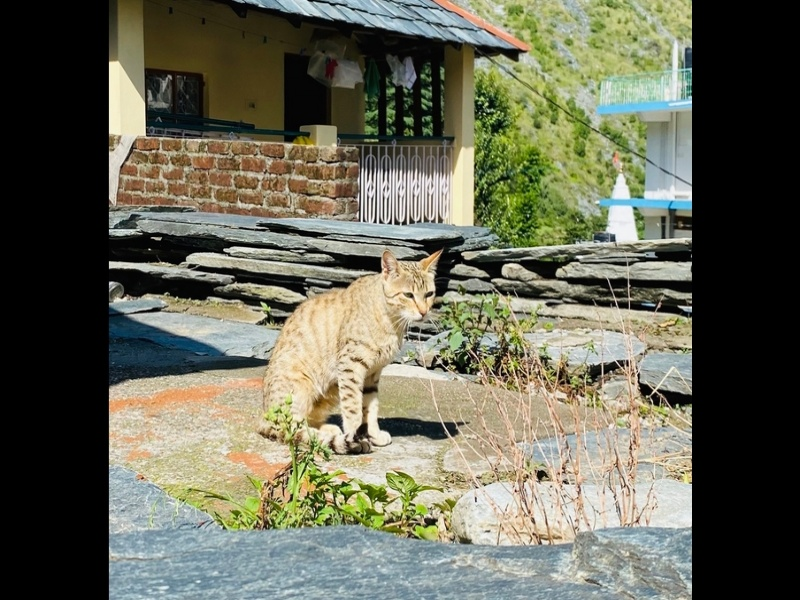cat: (257, 244, 446, 458)
